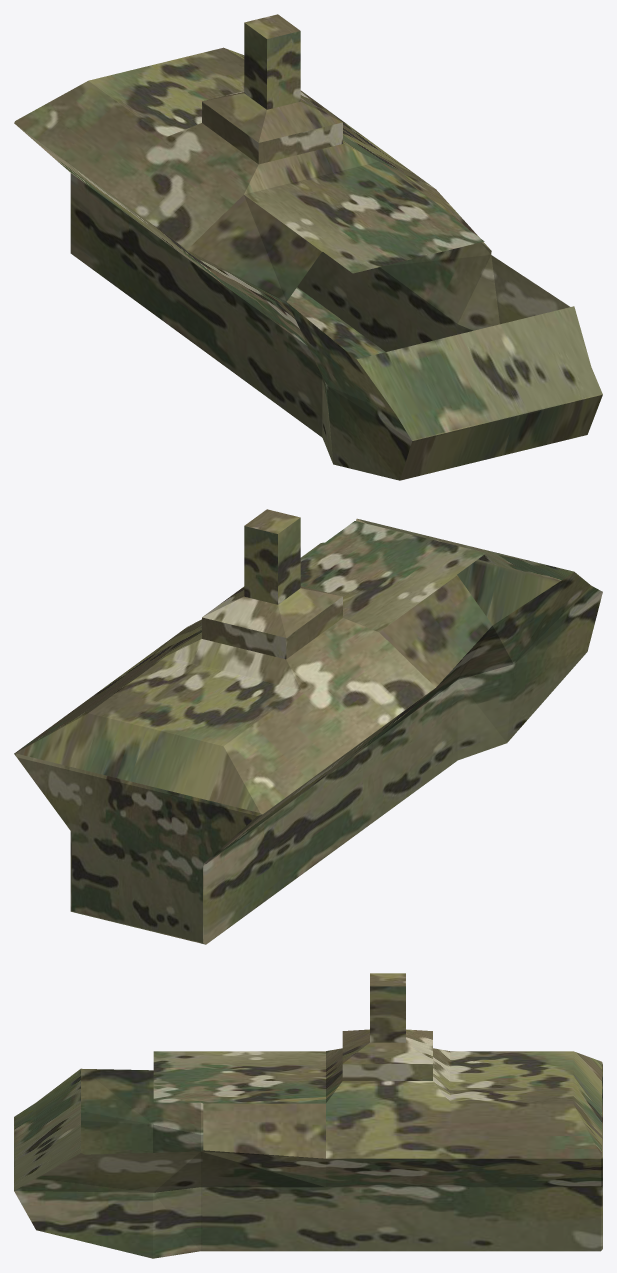
The model's file is Body.obj.
The picture shows the model from 3 angles, top to bottom: view 1: azimuth 30°, elevation 25°; view 2: azimuth 150°, elevation 25°; view 3: azimuth 270°, elevation 25°; orthographic projection. The views are drawn at different scales.
Visible parts, largest first — view 1: Body; view 2: Body; view 3: Body.
Boxes of the visible parts, <box> form: Body: <box>14,14,602,480</box>; Body: <box>14,509,602,944</box>; Body: <box>14,973,602,1258</box>.
Size of the model in its own units: 7.36 by 8.71 by 18.96.
